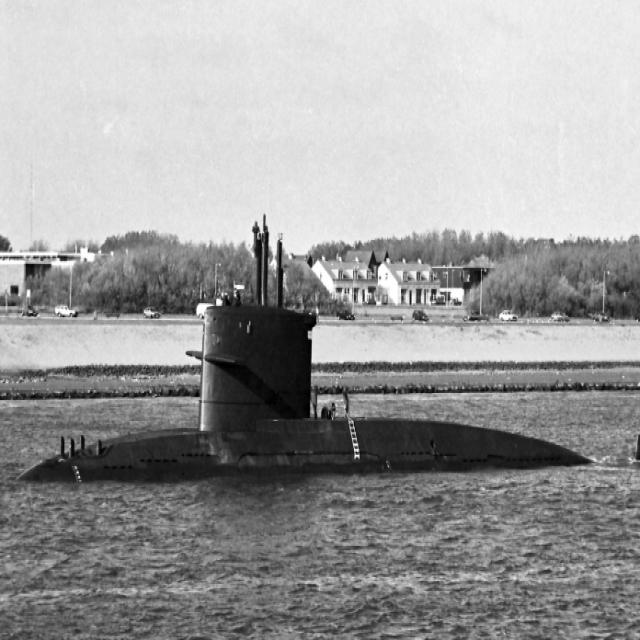submarine: (15, 202, 640, 487)
